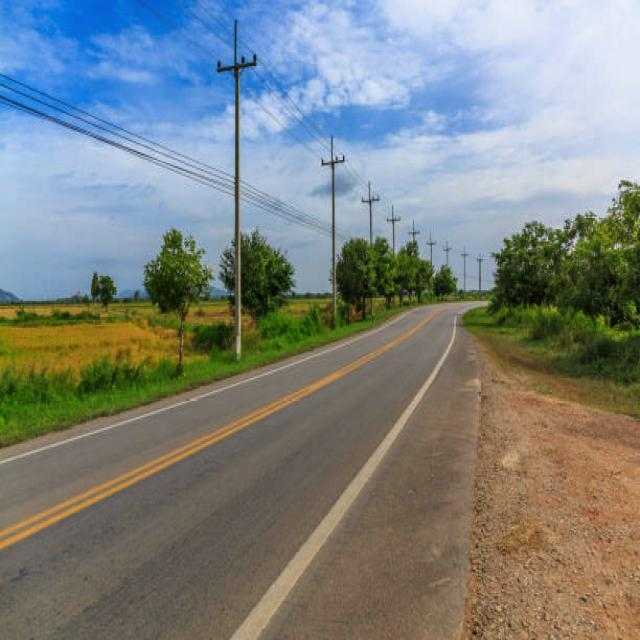crossarm: (216, 52, 258, 74)
pole: (234, 20, 241, 362)
wire: (0, 94, 296, 227), (0, 81, 292, 214), (176, 0, 364, 192), (193, 0, 368, 188), (138, 0, 321, 162), (0, 72, 234, 180)
